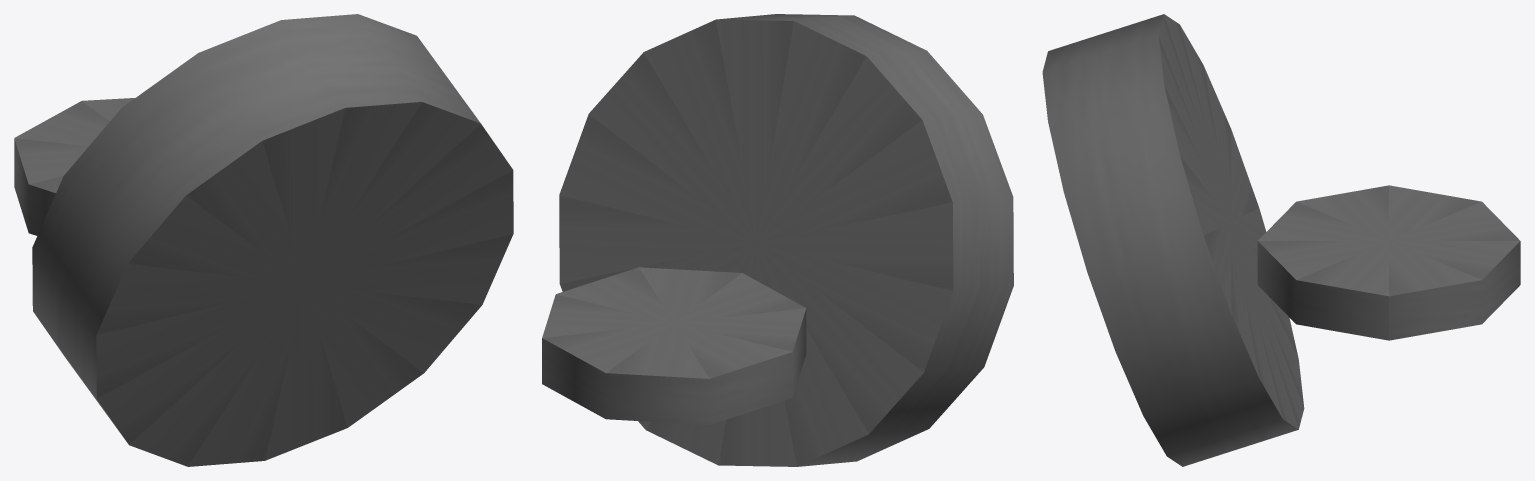
File: mastarmcurve_4x1_c1_up.obj
The picture shows the model from 3 angles, left to right: view 1: azimuth 30°, elevation 25°; view 2: azimuth 150°, elevation 25°; view 3: azimuth 270°, elevation 25°; orthographic projection. The views are drawn at different scales.
Visible parts, largest first — view 1: mastarm_4x1_c1_up; view 2: mastarm_4x1_c1_up; view 3: mastarm_4x1_c1_up.
Boxes of the visible parts, box(x1,y1,x2,y2) form: mastarm_4x1_c1_up: box(14, 14, 513, 466); mastarm_4x1_c1_up: box(542, 14, 1013, 466); mastarm_4x1_c1_up: box(1042, 14, 1520, 466).
Size of the model in its own units: 0.6655 by 0.69 by 0.7277.
